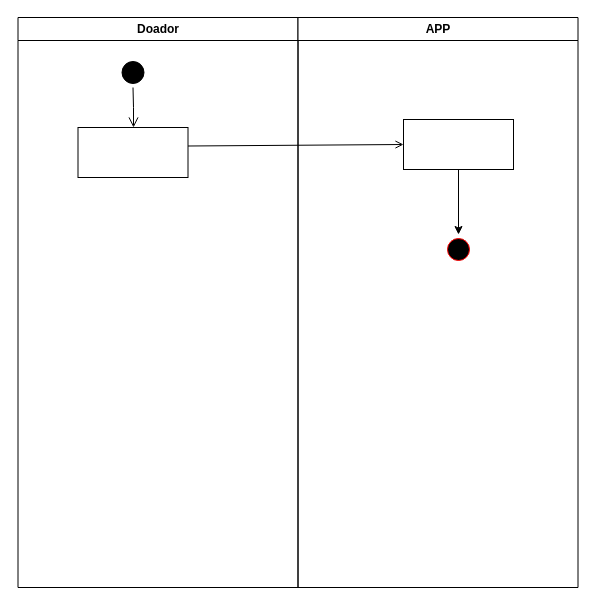
This 595x605 diagram has some shape labels left out. Each missing label, with the box of its shape:
entrar: (77, 126, 188, 178)
login social: (402, 118, 514, 170)
